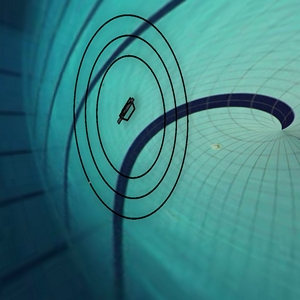circle: (51, 3, 217, 226)
submarine: (110, 90, 144, 131)
